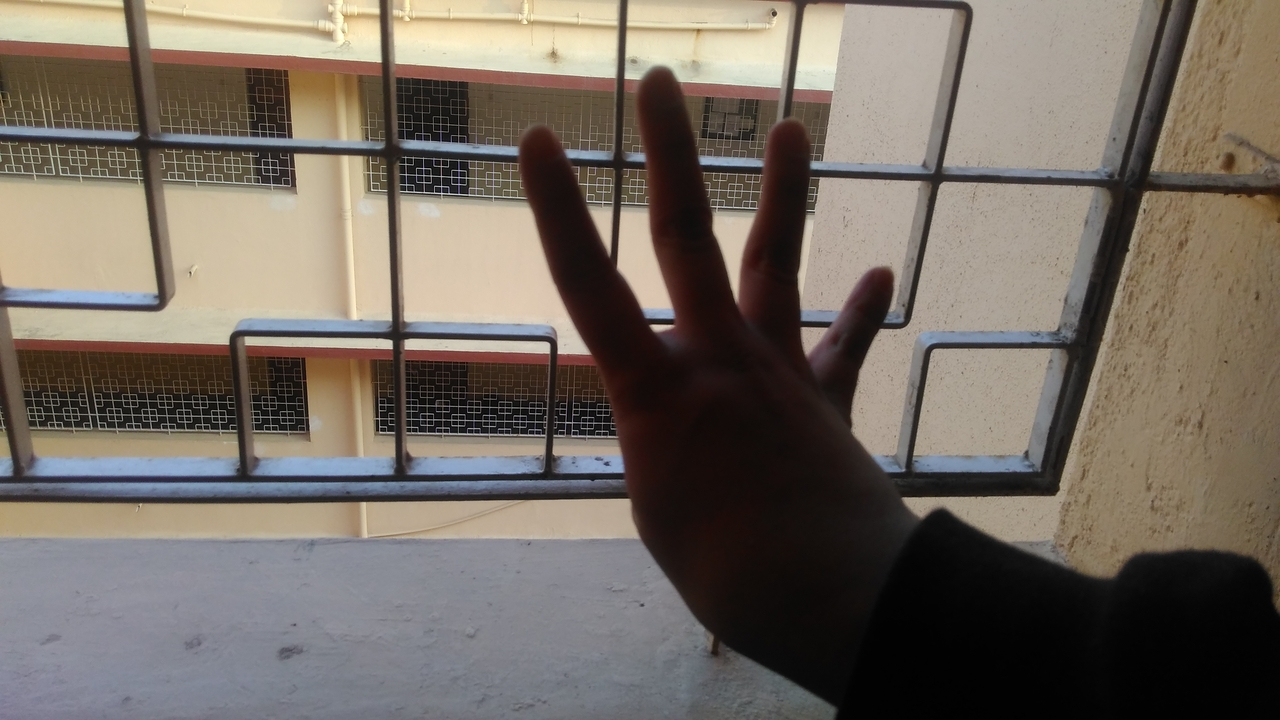fingertip: (758, 112, 816, 166), (510, 124, 570, 176), (846, 262, 906, 308), (634, 62, 688, 108)
